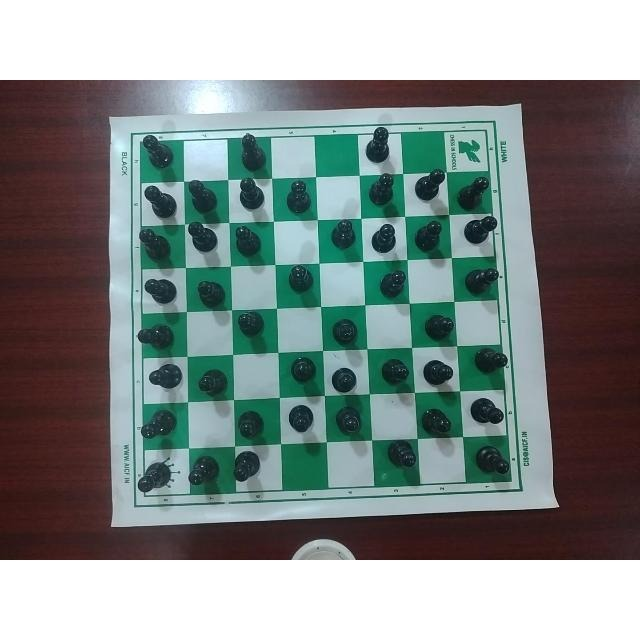black-pawn: (231, 448, 273, 492), (135, 226, 182, 264), (473, 441, 513, 483), (471, 340, 509, 384), (131, 324, 181, 356), (422, 356, 462, 396), (141, 408, 182, 447), (188, 268, 232, 304), (133, 459, 177, 495), (383, 437, 419, 481), (185, 218, 221, 261), (143, 272, 181, 312), (417, 406, 459, 442), (471, 442, 513, 478), (282, 400, 322, 437), (144, 361, 185, 397), (467, 345, 510, 379), (229, 175, 267, 213), (138, 458, 178, 494), (466, 396, 507, 431), (374, 264, 412, 301), (142, 181, 178, 220), (334, 402, 370, 441), (186, 459, 225, 495), (234, 406, 269, 446), (135, 321, 178, 353), (280, 178, 316, 216), (459, 217, 497, 253), (464, 261, 502, 297), (455, 174, 494, 209), (138, 409, 180, 441), (361, 126, 395, 165), (459, 213, 499, 246), (233, 135, 269, 171), (142, 183, 178, 219), (414, 219, 450, 255), (363, 172, 400, 207), (138, 227, 173, 264), (140, 132, 174, 170), (408, 171, 446, 205), (466, 395, 506, 427), (141, 275, 180, 307), (142, 135, 176, 171), (412, 167, 446, 203), (455, 176, 491, 210), (288, 354, 320, 392), (237, 132, 267, 172), (363, 125, 393, 165), (422, 311, 457, 345), (232, 223, 268, 256), (464, 264, 500, 297), (231, 449, 264, 485), (415, 219, 447, 256), (236, 307, 267, 345), (145, 362, 184, 392), (285, 260, 312, 303), (187, 179, 219, 215), (325, 221, 361, 253), (327, 316, 363, 348), (195, 369, 231, 401), (420, 357, 456, 389), (332, 406, 368, 438), (234, 409, 267, 443), (188, 176, 220, 211), (186, 219, 218, 254), (234, 176, 267, 209), (194, 277, 228, 309), (195, 367, 229, 399), (421, 404, 455, 436), (188, 456, 222, 488), (283, 179, 313, 215), (367, 220, 399, 253), (330, 363, 362, 396), (377, 356, 410, 388), (282, 264, 317, 294), (286, 355, 318, 387), (286, 403, 316, 437), (381, 354, 410, 389), (368, 173, 396, 209), (328, 219, 356, 255), (423, 312, 455, 343), (377, 266, 407, 299), (385, 439, 418, 469), (329, 316, 359, 348), (326, 365, 358, 395), (234, 224, 262, 258), (368, 221, 396, 254), (234, 311, 266, 339)
